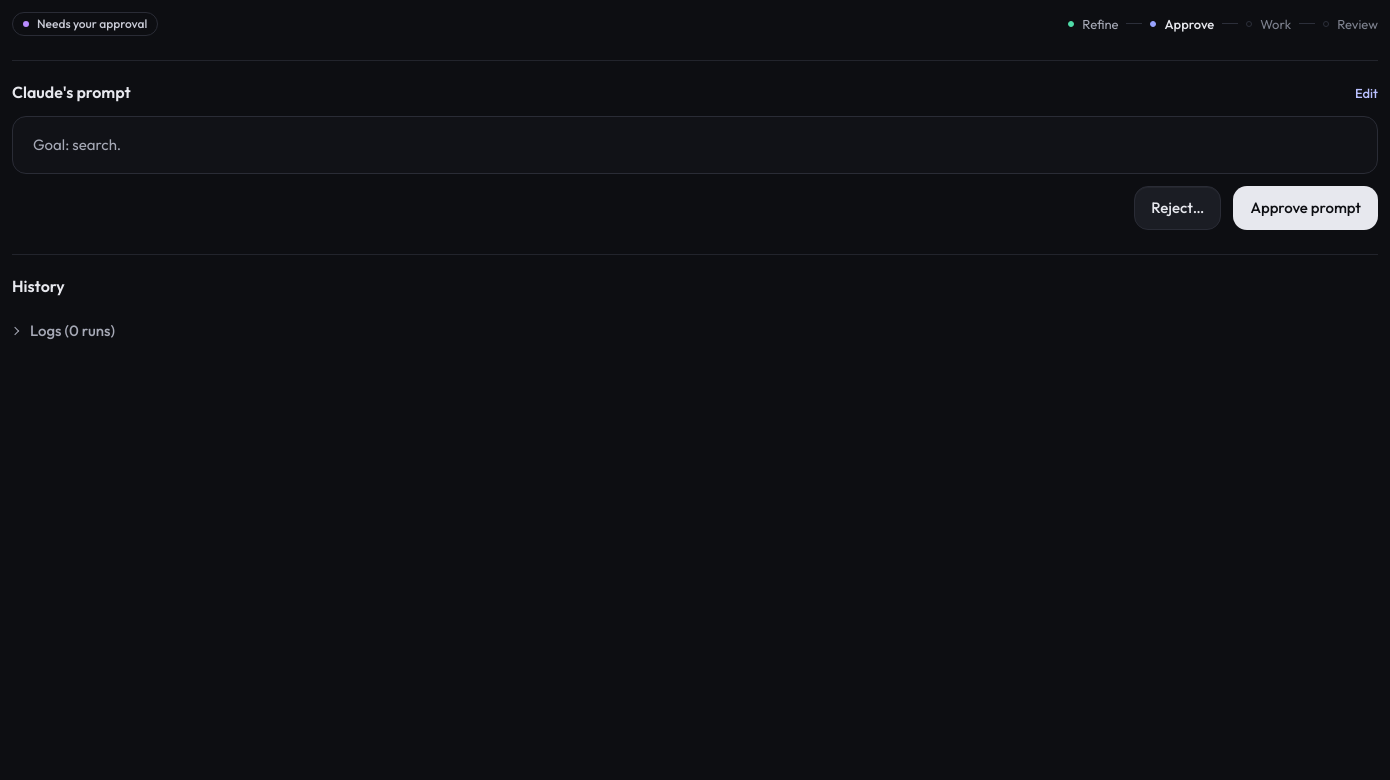
Test: AiTab › Cancel throws away your edits
Step 1. Click the button "Edit" → (1366, 93), box [1355,83,1378,104]
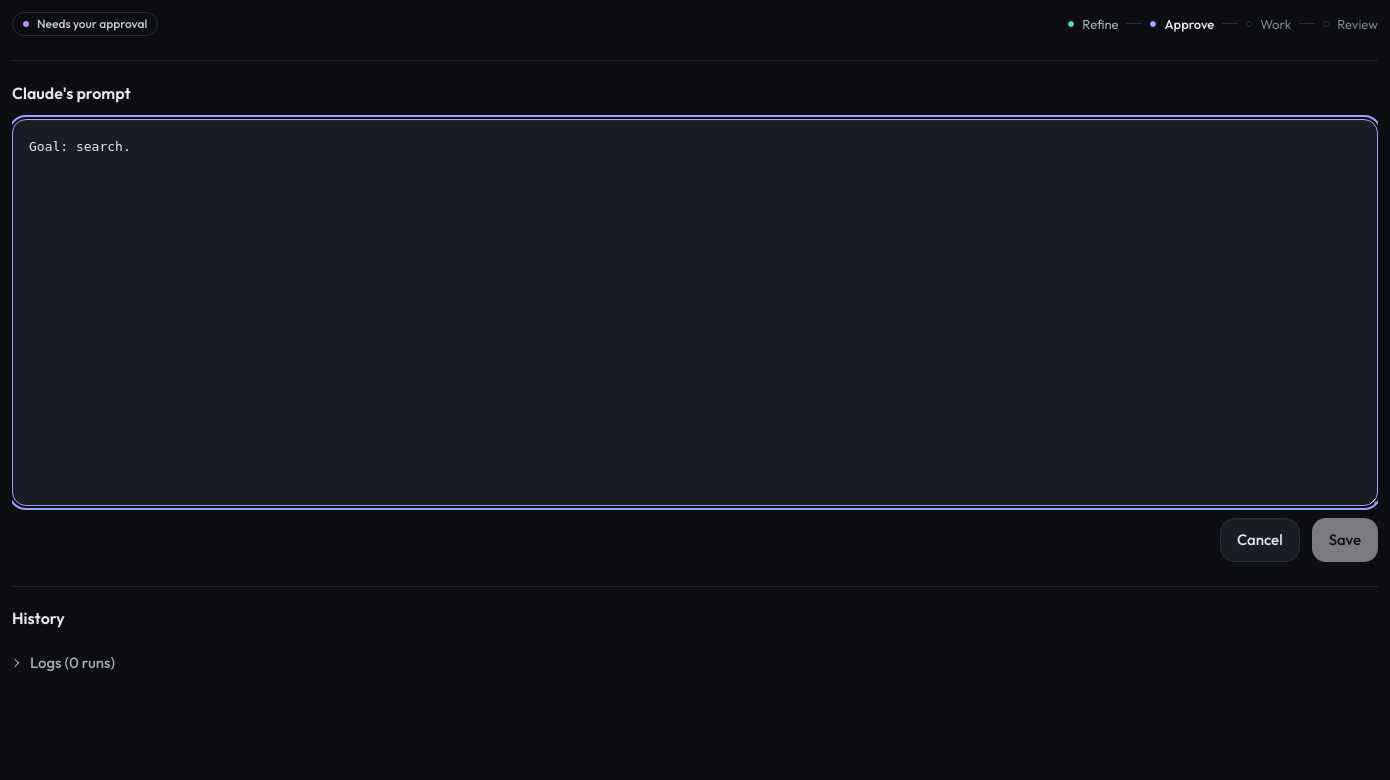
Step 2. Type " Oops" into the text box labelled "Claude's prompt" → (695, 312), box [12,119,1378,506]
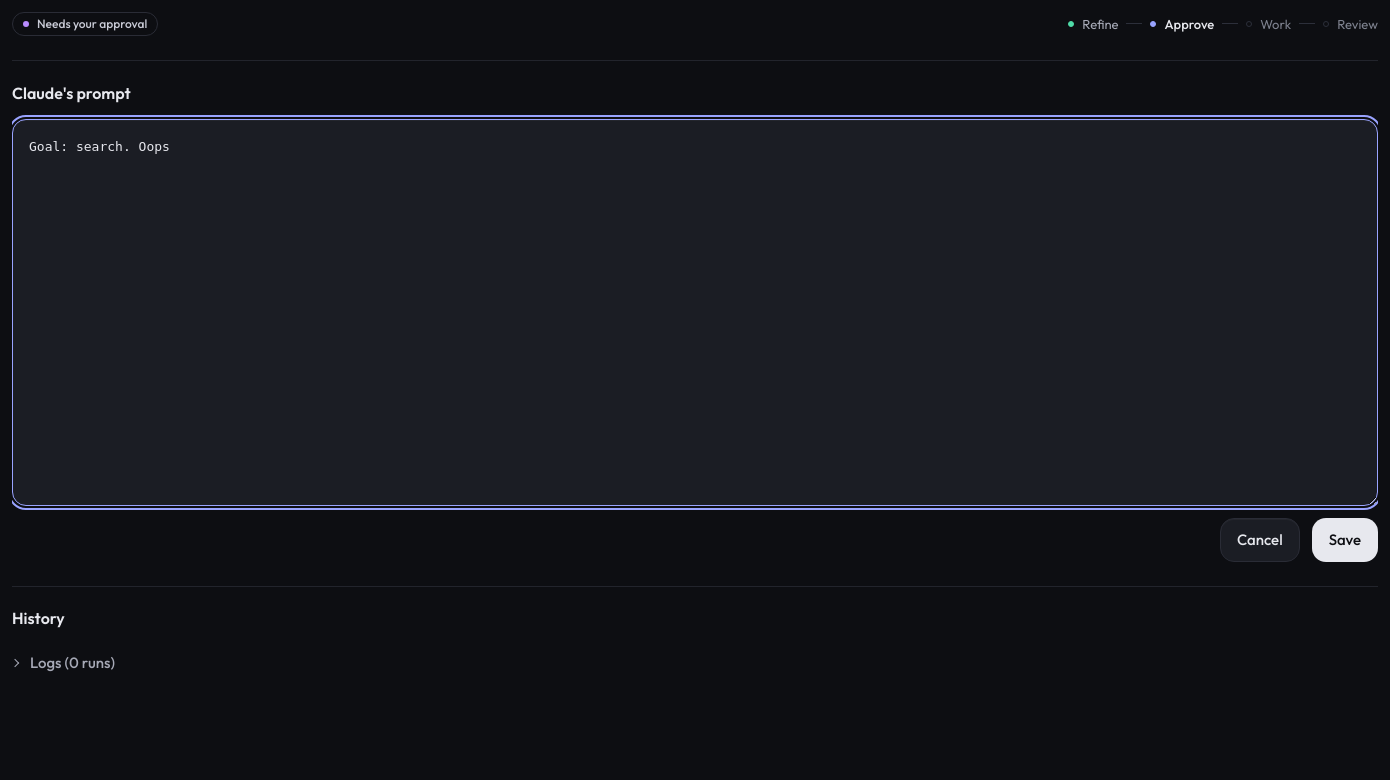
Step 3. Click the button "Cancel" → (1260, 540), box [1220,518,1300,562]
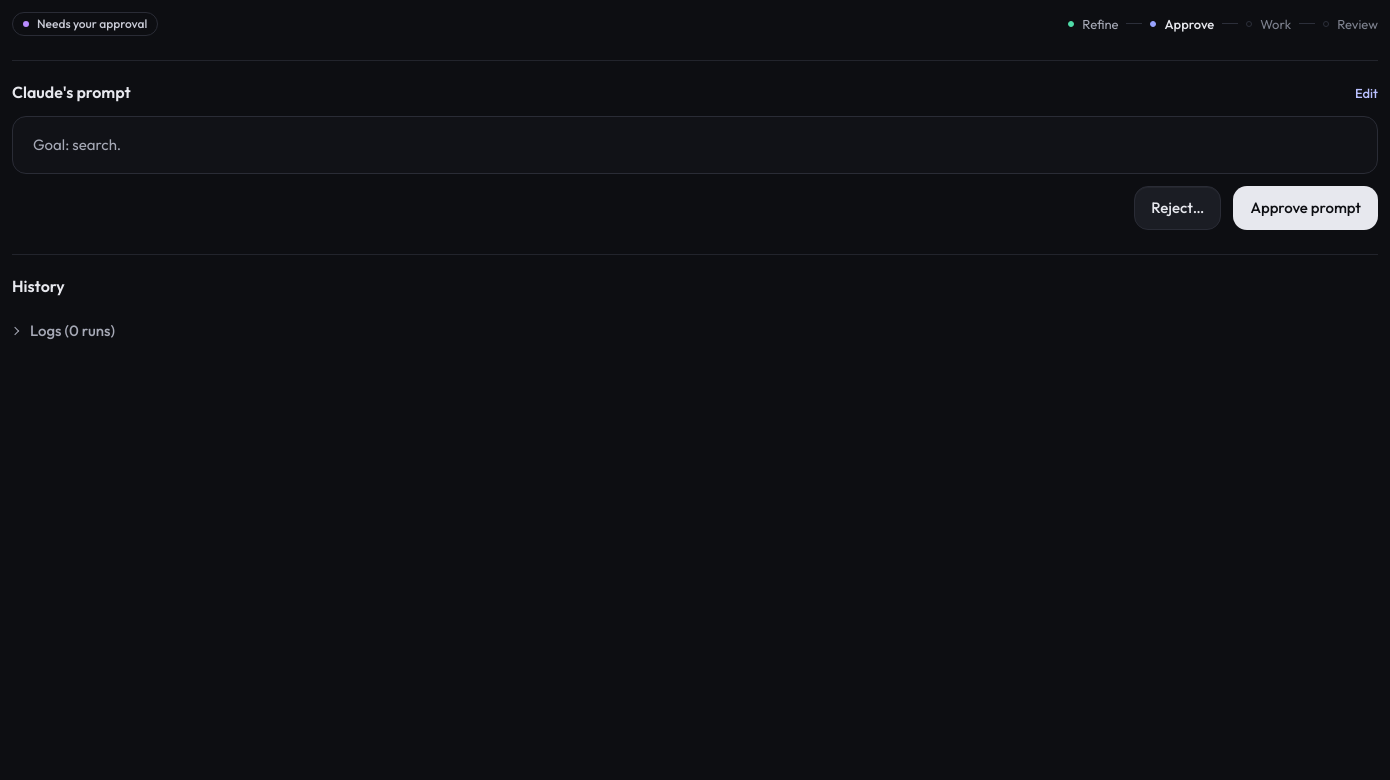
Expected: the text "Goal: search." is shown, [33,135,121,154]
